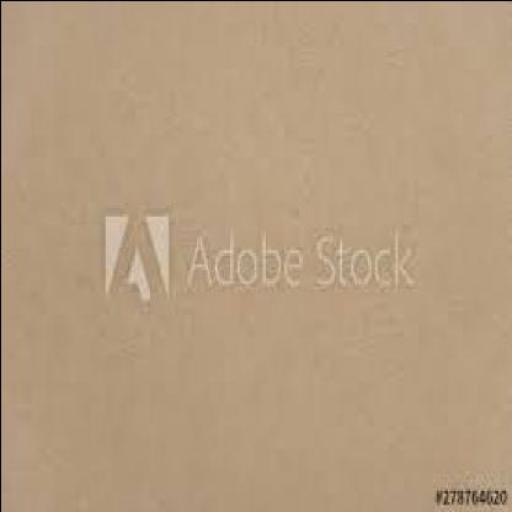cardboard: (1, 1, 511, 510)
